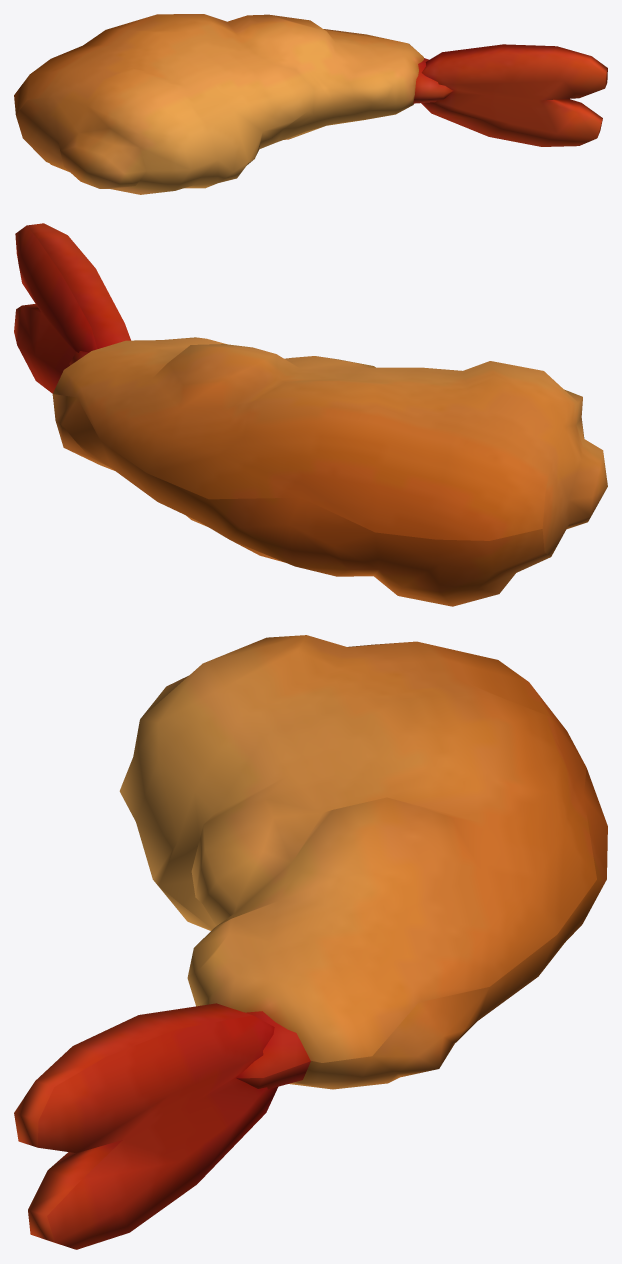
Rendered from Shrimp.fbx.
3 renders of one model, top to bottom at view 1: azimuth 30°, elevation 25°; view 2: azimuth 150°, elevation 25°; view 3: azimuth 270°, elevation 25°, orthographic. The views are drawn at different scales.
Parts seen in each view (by area): view 1: Shrimp; view 2: Shrimp; view 3: Shrimp.
Part boxes in pixels (<box>): Shrimp: <box>14,14,607,194</box>; Shrimp: <box>14,223,607,606</box>; Shrimp: <box>14,635,607,1249</box>.
Size of the model in its own units: 116 by 29.92 by 64.86.
Materials: 1 (1 with a texture image).
